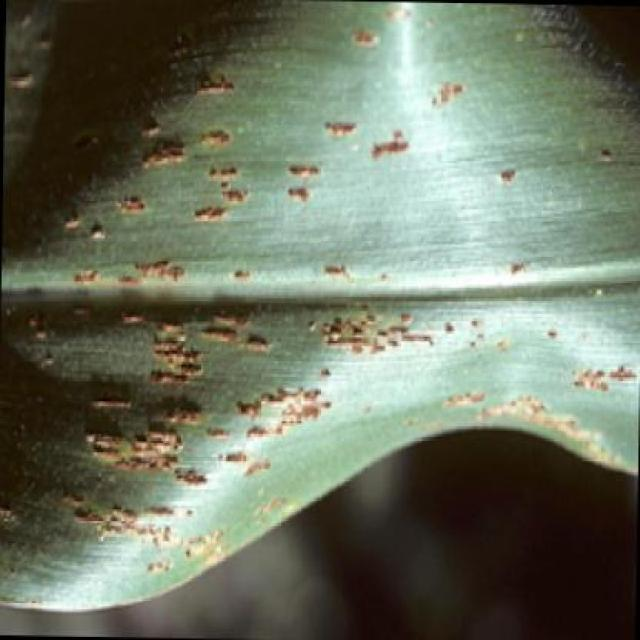Corn_Rust: (17, 8, 621, 594)
